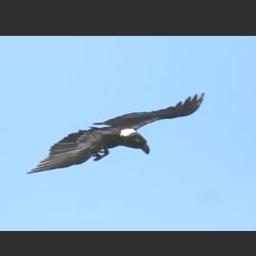Crow: (24, 90, 206, 174)
